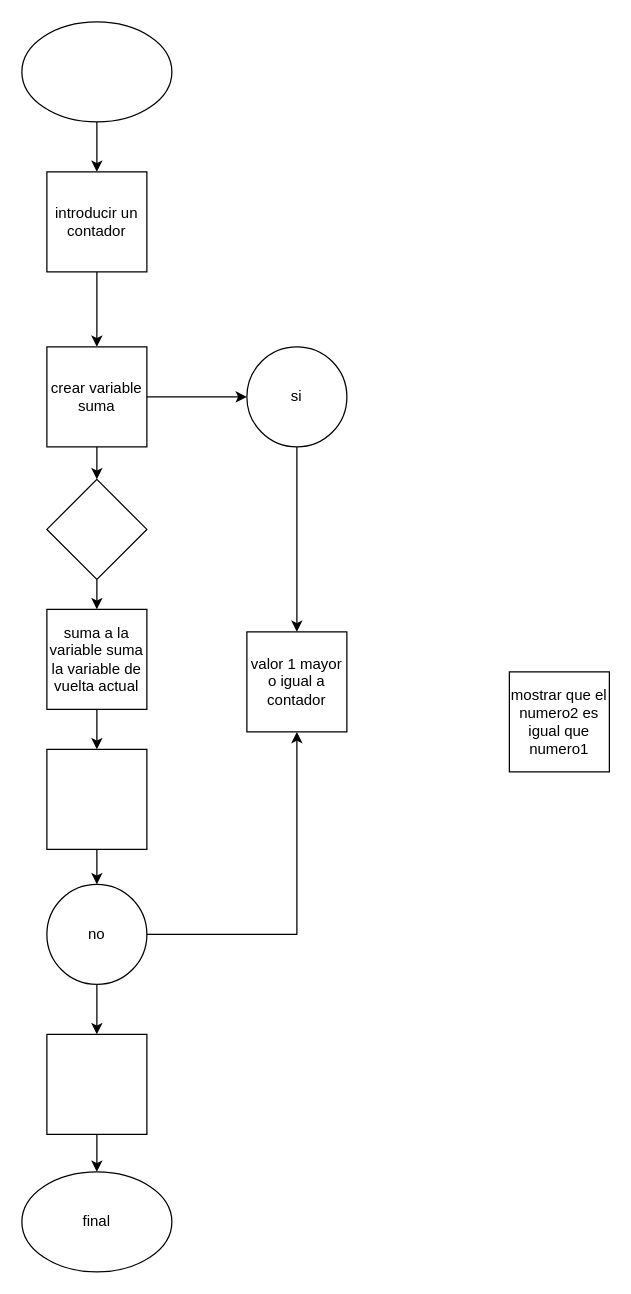
The diagram is 631 pixels wide and 1294 high, and some of its shapes have lost their labels. Each missing label, with the centre of its shape:
comprueba si es par: (x=96, y=528)
inicio: (x=96, y=71)
mostrar la suma de todos los pares: (x=96, y=1083)
muestra la vuelta actual: (x=96, y=798)
